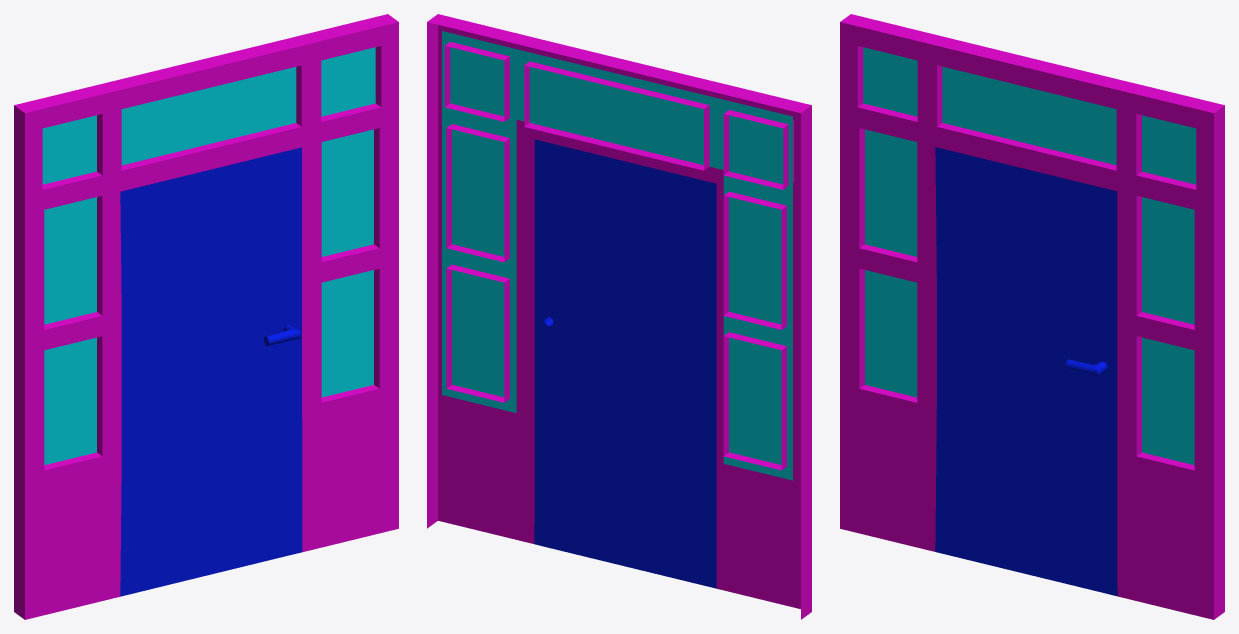
Rendered from Deur Closed B.fbx.
3 renders of one model, left to right at view 1: azimuth 30°, elevation 25°; view 2: azimuth 150°, elevation 25°; view 3: azimuth 330°, elevation 25°, orthographic.
Parts seen in each view (by area): view 1: DeurRadB, DeurRadBRaam; view 2: DeurRadB, DeurRadBRaam; view 3: DeurRadB, DeurRadBRaam.
Boxes of the visible parts, x1,y1,x2,y2 form: DeurRadB: (14, 14, 398, 619); DeurRadBRaam: (42, 47, 375, 465); DeurRadB: (427, 14, 811, 619); DeurRadBRaam: (442, 31, 792, 480); DeurRadB: (840, 14, 1224, 619); DeurRadBRaam: (863, 47, 1196, 465).
Bounding box in the file's own units: 193 × 250 × 18.23.
